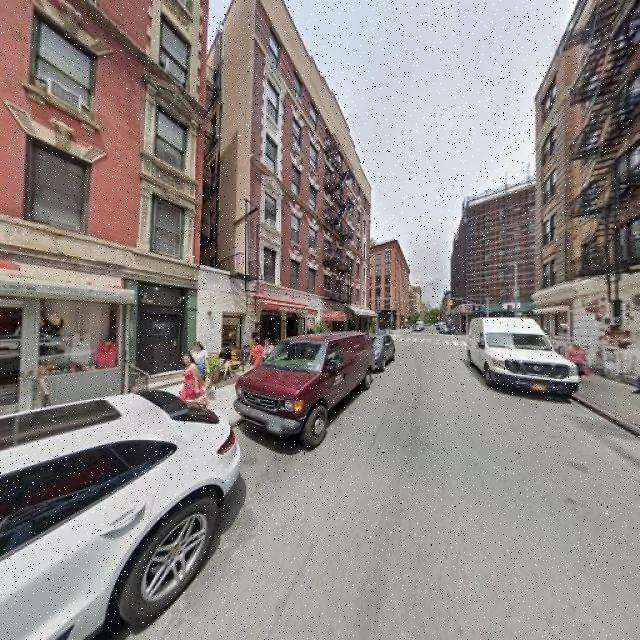Building: (1, 1, 202, 407), (205, 1, 373, 364), (539, 1, 640, 367)
